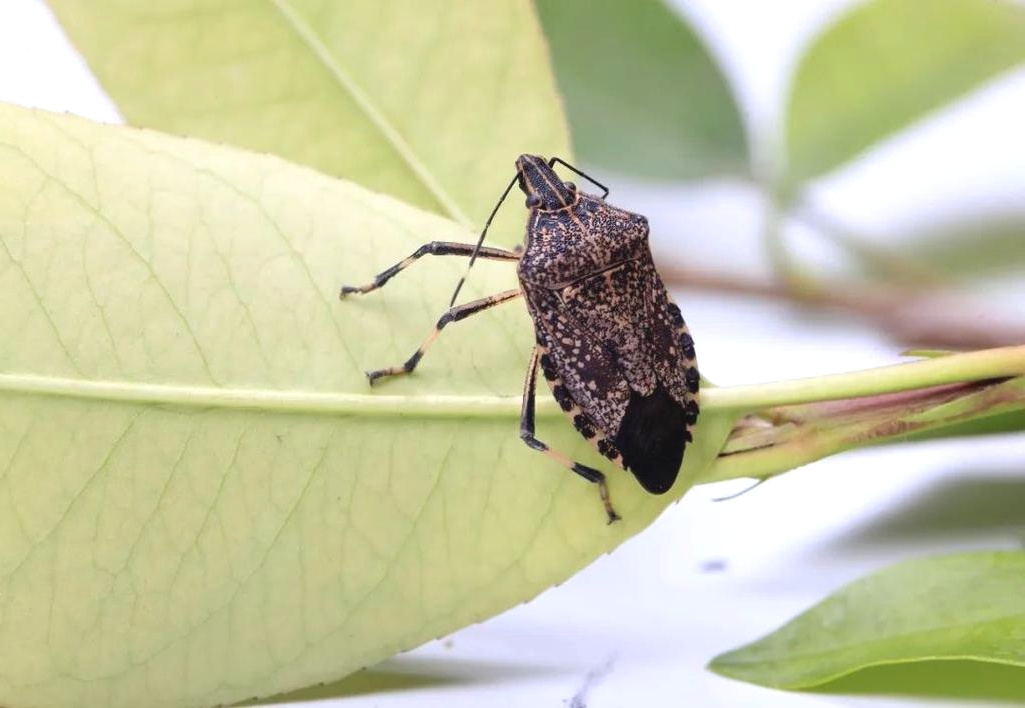Stink_Bug: (484, 150, 666, 487)
